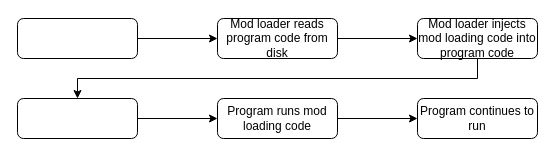
Some shapes in this 555 by 156 pixel diagram are drawn without their labels. Here are the shapes that lost their labels. From the top down, the centre of each, then its label:
At pixel 77 38: "User executes Type 1 mod loader".
At pixel 77 118: "Mod loader executes program".
